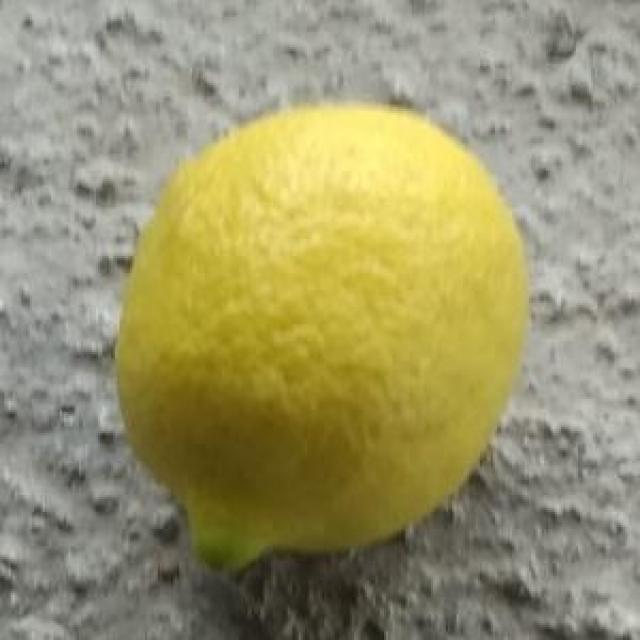lemon: (112, 96, 536, 576)
